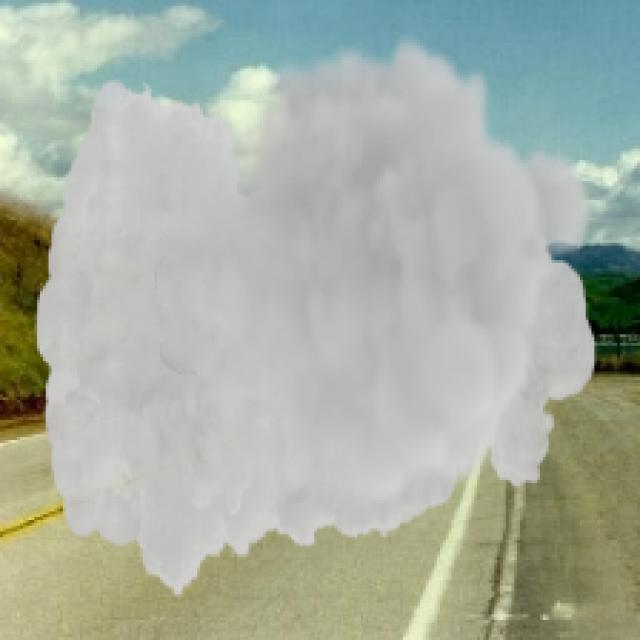Smoke: (34, 34, 597, 600)
